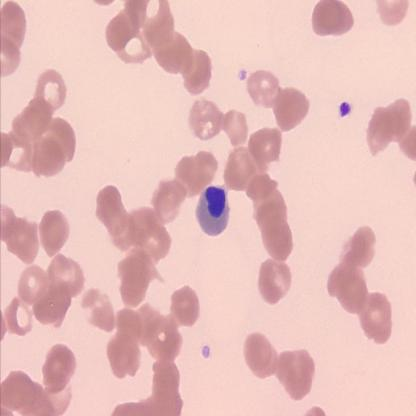NRC: (194, 181, 232, 238)
